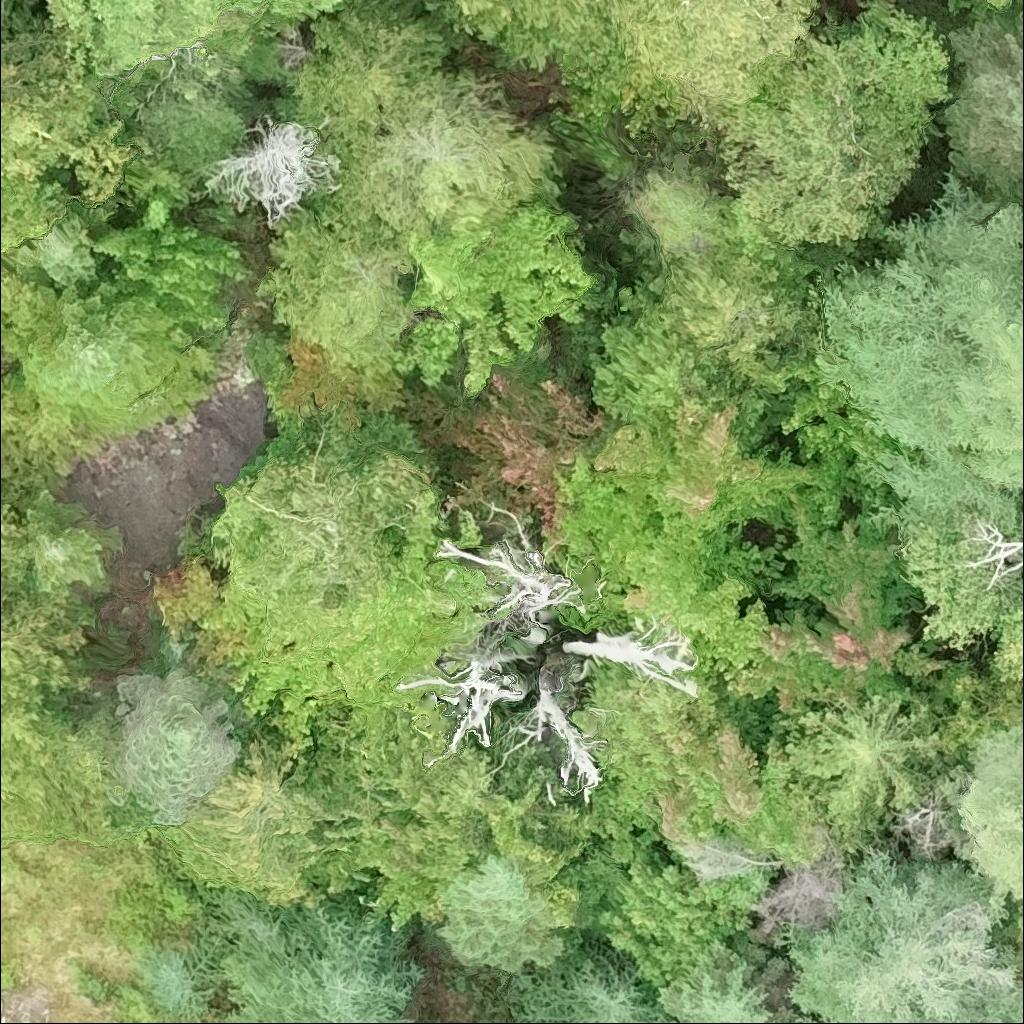crown: (813, 164, 1023, 542), (718, 0, 958, 259), (228, 501, 486, 737), (551, 448, 774, 669), (779, 842, 1023, 1023), (401, 197, 604, 401), (337, 65, 564, 247), (592, 394, 848, 547), (391, 361, 616, 532), (750, 494, 919, 707), (13, 273, 217, 438), (615, 243, 827, 396), (254, 186, 417, 381), (220, 448, 433, 597), (200, 895, 427, 1023), (601, 0, 819, 132), (0, 58, 142, 256), (283, 0, 453, 155), (657, 723, 832, 865), (782, 695, 941, 851), (186, 736, 336, 901), (46, 0, 354, 78), (95, 195, 252, 330), (433, 505, 588, 641), (113, 668, 239, 828), (935, 10, 1023, 201), (199, 112, 340, 228), (0, 710, 115, 846), (436, 852, 564, 970), (399, 640, 527, 752), (0, 587, 99, 722), (307, 828, 433, 933), (958, 723, 1023, 901), (774, 352, 874, 467), (157, 561, 262, 667), (519, 681, 604, 803), (556, 623, 701, 693), (13, 489, 108, 594), (0, 199, 113, 287), (281, 337, 404, 416), (511, 958, 660, 1023), (656, 961, 777, 1023), (141, 938, 216, 1023), (18, 408, 102, 476), (987, 578, 1023, 689), (964, 517, 1023, 582), (0, 495, 36, 598), (0, 369, 42, 454), (449, 0, 505, 16), (1014, 898, 1023, 965), (981, 0, 1018, 13), (21, 0, 34, 2)
